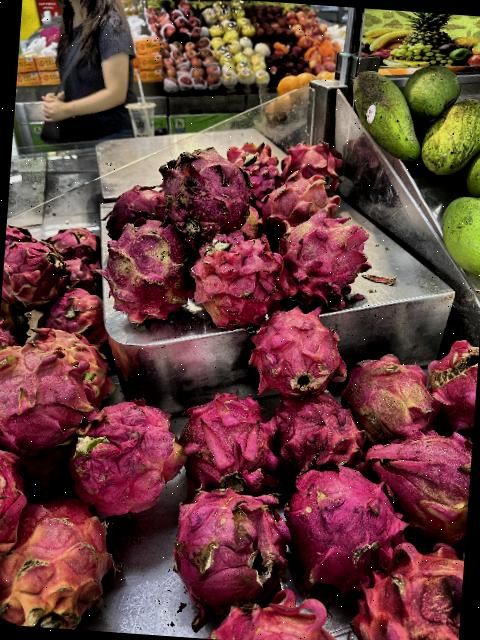buah-naga-belum-matang: (0, 488, 112, 630), (91, 214, 197, 326), (0, 340, 92, 465), (366, 424, 472, 528), (356, 543, 464, 640), (273, 201, 368, 304), (338, 347, 436, 436), (201, 593, 337, 640), (27, 326, 116, 388), (264, 170, 339, 226), (2, 234, 62, 301), (41, 284, 111, 340)
buah-naga-matang: (160, 482, 288, 604), (280, 460, 400, 579), (71, 398, 182, 506), (176, 389, 280, 492), (241, 302, 340, 396), (151, 142, 251, 234), (188, 225, 280, 322), (262, 392, 362, 468), (426, 337, 478, 429), (278, 134, 346, 191), (100, 181, 168, 232), (230, 142, 280, 190), (0, 445, 22, 552), (46, 222, 100, 256), (61, 250, 101, 290)
